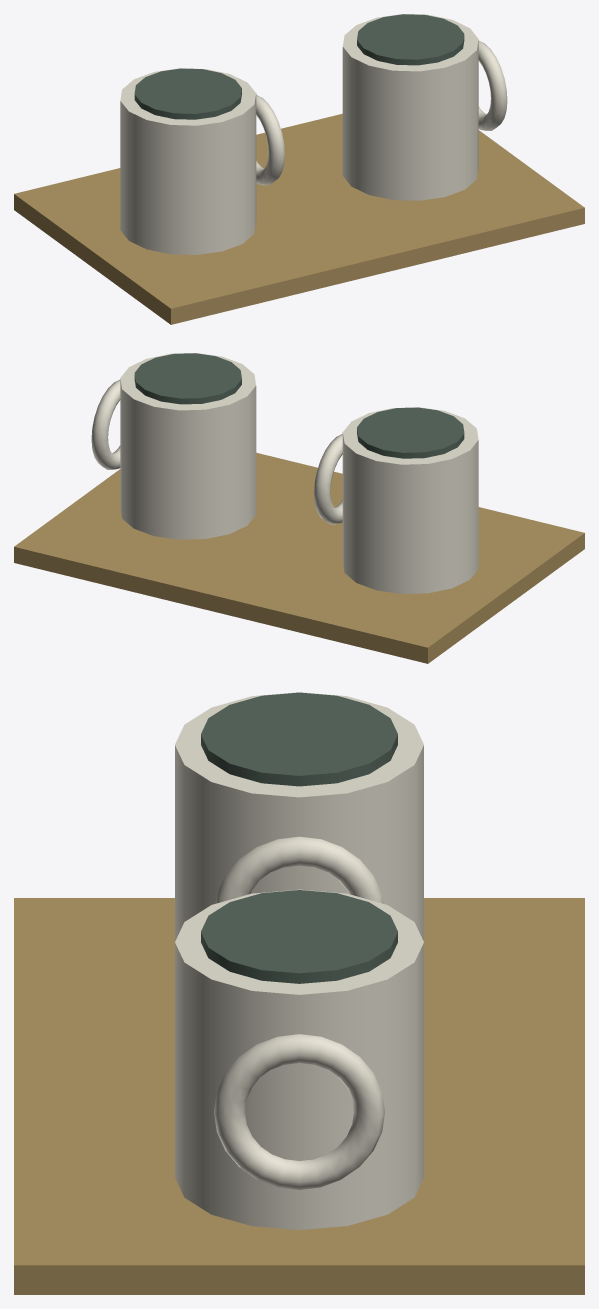
Rendered from tea_tray.glb.
3 renders of one model, top to bottom at view 1: azimuth 30°, elevation 25°; view 2: azimuth 150°, elevation 25°; view 3: azimuth 270°, elevation 25°, orthographic. The views are drawn at different scales.
Parts seen in each view (by area): view 1: _MeshInstance3D_1081, _MeshInstance3D_1085, _MeshInstance3D_1082, _MeshInstance3D_1086, _MeshInstance3D_1083, _MeshInstance3D_1087, _MeshInstance3D_1084; view 2: _MeshInstance3D_1081, _MeshInstance3D_1085, _MeshInstance3D_1082, _MeshInstance3D_1086, _MeshInstance3D_1083, _MeshInstance3D_1087, _MeshInstance3D_1084; view 3: _MeshInstance3D_1081, _MeshInstance3D_1085, _MeshInstance3D_1082, _MeshInstance3D_1083, _MeshInstance3D_1086, _MeshInstance3D_1087, _MeshInstance3D_1084.
Boxes of the visible parts, x1=… form: _MeshInstance3D_1081: x1=14, y1=113, x2=584, y2=324; _MeshInstance3D_1085: x1=342, y1=14, x2=478, y2=200; _MeshInstance3D_1082: x1=120, y1=68, x2=256, y2=254; _MeshInstance3D_1086: x1=357, y1=14, x2=464, y2=65; _MeshInstance3D_1083: x1=134, y1=68, x2=241, y2=119; _MeshInstance3D_1087: x1=478, y1=41, x2=507, y2=130; _MeshInstance3D_1084: x1=256, y1=95, x2=284, y2=185; _MeshInstance3D_1081: x1=14, y1=452, x2=584, y2=663; _MeshInstance3D_1085: x1=120, y1=353, x2=256, y2=539; _MeshInstance3D_1082: x1=342, y1=407, x2=478, y2=593; _MeshInstance3D_1086: x1=134, y1=353, x2=241, y2=404; _MeshInstance3D_1083: x1=357, y1=407, x2=464, y2=458; _MeshInstance3D_1087: x1=91, y1=380, x2=120, y2=469; _MeshInstance3D_1084: x1=314, y1=434, x2=342, y2=524; _MeshInstance3D_1081: x1=14, y1=898, x2=584, y2=1294; _MeshInstance3D_1085: x1=175, y1=889, x2=423, y2=1229; _MeshInstance3D_1082: x1=175, y1=692, x2=423, y2=941; _MeshInstance3D_1083: x1=201, y1=692, x2=397, y2=786; _MeshInstance3D_1086: x1=201, y1=890, x2=397, y2=983; _MeshInstance3D_1087: x1=214, y1=1033, x2=384, y2=1189; _MeshInstance3D_1084: x1=215, y1=836, x2=383, y2=903.
Size of the model in its own units: 0.67 by 0.2365 by 0.44.
